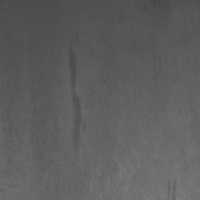inclusion: (63, 38, 89, 155), (161, 174, 182, 199)
